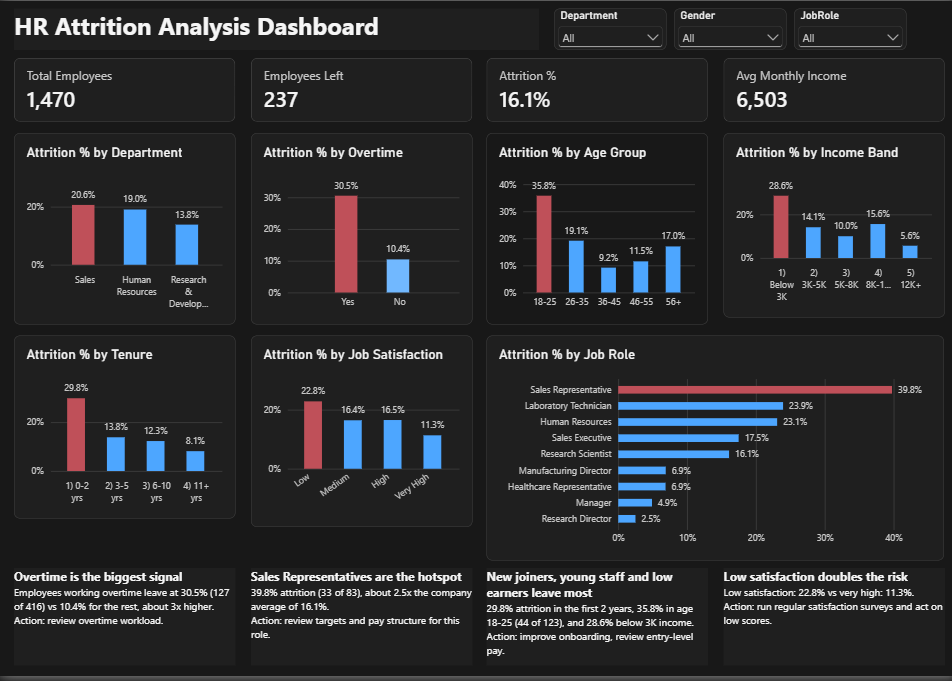

The page's visual inventory and layout, read from the dashboard file:
{"tool":"powerbi","page":{"name":"Page 1","canvas":[1280,900],"ordinal":0},"visuals":[{"type":"cardVisual","fields":{"Data":["HR_Data.Employees Left Text"]},"box":[335,75,295,85],"z":1},{"type":"cardVisual","fields":{"Data":["HR_Data.Total Employees Text"]},"box":[20.3,75,295,85],"z":2},{"type":"cardVisual","fields":{"Data":["HR_Data.Attrition %"]},"box":[649,75,295,85],"z":3},{"type":"cardVisual","fields":{"Data":["HR_Data.Avg Monthly Income Text"]},"box":[965,75,295,85],"z":4},{"type":"clusteredColumnChart","title":"Attrition % by Department","fields":{"Category":["HR_Data.Department"],"Y":["HR_Data.Attrition %"]},"box":[20,175,295,255],"z":5},{"type":"clusteredColumnChart","title":"Attrition % by Overtime","fields":{"Category":["HR_Data.OverTime"],"Y":["HR_Data.Attrition %"]},"box":[335,175,295,255],"z":6},{"type":"clusteredColumnChart","title":"Attrition % by Age Group","fields":{"Category":["HR_Data.Age Group"],"Y":["HR_Data.Attrition %"]},"box":[650,175,295,255],"z":7},{"type":"clusteredColumnChart","title":"Attrition % by Income Band","fields":{"Category":["HR_Data.Income Band"],"Y":["HR_Data.Attrition %"]},"box":[965,175,295,246],"z":8},{"type":"clusteredColumnChart","title":"Attrition % by Tenure","fields":{"Category":["HR_Data.Tenure Band"],"Y":["HR_Data.Attrition %"]},"box":[20,445,295,244],"z":9},{"type":"clusteredColumnChart","title":"Attrition % by Job Satisfaction","fields":{"Category":["HR_Data.Satisfaction Level"],"Y":["HR_Data.Attrition %"]},"box":[335,445,295,255],"z":10},{"type":"clusteredBarChart","title":"Attrition % by Job Role","fields":{"Category":["HR_Data.JobRole"],"Y":["HR_Data.Attrition %"]},"box":[650,445,610,300],"z":11},{"type":"slicer","fields":{"Values":["HR_Data.Department"]},"box":[740,10,150,55],"z":12},{"type":"slicer","fields":{"Values":["HR_Data.JobRole"]},"box":[1060,10,150,55],"z":13},{"type":"slicer","fields":{"Values":["HR_Data.Gender"]},"box":[900,10,150,55],"z":14},{"type":"textbox","box":[20,10,700,55],"z":15},{"type":"textbox","box":[20,755,295,130],"z":16},{"type":"textbox","box":[335,755,295,130],"z":17},{"type":"textbox","box":[650,755,295,130],"z":18},{"type":"textbox","box":[965,755,295,130],"z":19}]}

Visuals, with their boxes in screenshot pixels (x1, y1, x2, y2), scaled from the page's 1280x900 canvas onto the 952x681 screenshot:
cardVisual - HR_Data.Employees Left Text: 249 57 469 121
cardVisual - HR_Data.Total Employees Text: 15 57 235 121
cardVisual - HR_Data.Attrition %: 483 57 702 121
cardVisual - HR_Data.Avg Monthly Income Text: 718 57 937 121
"Attrition % by Department" clusteredColumnChart: 15 132 234 325
"Attrition % by Overtime" clusteredColumnChart: 249 132 469 325
"Attrition % by Age Group" clusteredColumnChart: 483 132 703 325
"Attrition % by Income Band" clusteredColumnChart: 718 132 937 319
"Attrition % by Tenure" clusteredColumnChart: 15 337 234 521
"Attrition % by Job Satisfaction" clusteredColumnChart: 249 337 469 530
"Attrition % by Job Role" clusteredBarChart: 483 337 937 564
slicer - HR_Data.Department: 550 8 662 49
slicer - HR_Data.JobRole: 788 8 900 49
slicer - HR_Data.Gender: 669 8 781 49
textbox: 15 8 536 49
textbox: 15 571 234 670
textbox: 249 571 469 670
textbox: 483 571 703 670
textbox: 718 571 937 670
